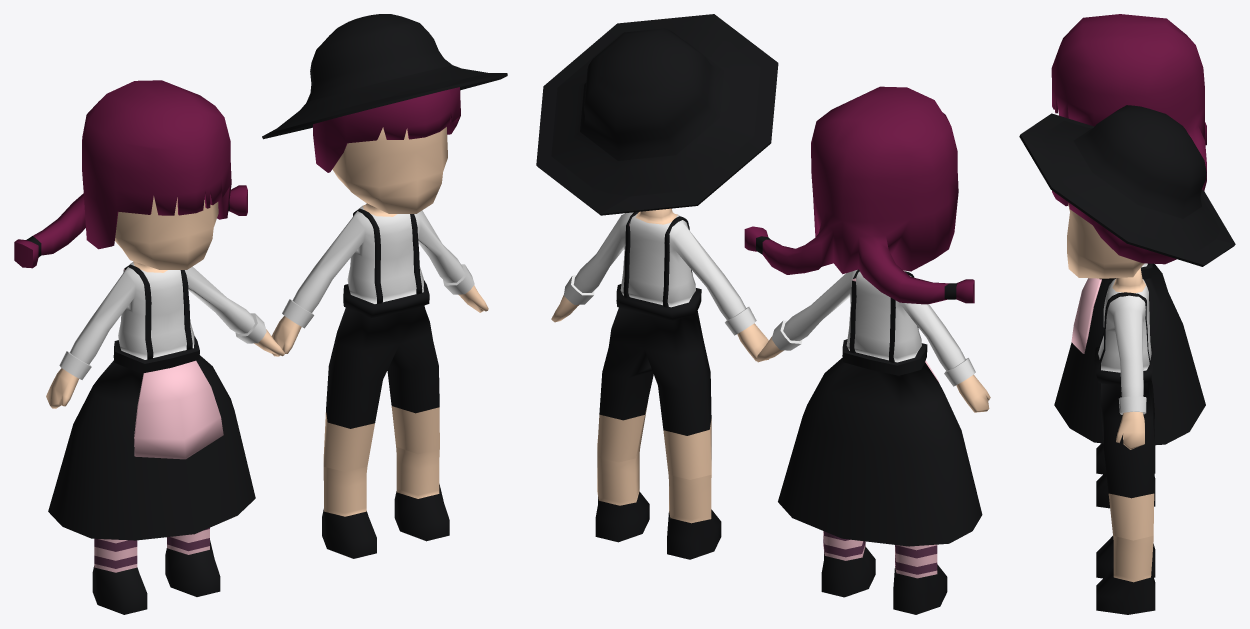
Rendered from HanselAndGretel.fbx.
The picture shows the model from 3 angles, left to right: view 1: azimuth 30°, elevation 25°; view 2: azimuth 150°, elevation 25°; view 3: azimuth 270°, elevation 25°; orthographic projection. The views are drawn at different scales.
Parts seen in each view (by area): view 1: Gretel, Cylinder.002; view 2: Gretel, Cylinder.002; view 3: Cylinder.002, Gretel.
Boxes of the visible parts, x1,y1,x2,y2 form: Gretel: [14, 80, 284, 614]; Cylinder.002: [262, 14, 507, 558]; Gretel: [744, 86, 990, 614]; Cylinder.002: [536, 14, 778, 559]; Cylinder.002: [1019, 105, 1235, 614]; Gretel: [1051, 14, 1206, 508].
Bounding box in the file's own units: 180 × 191 × 78.79.
